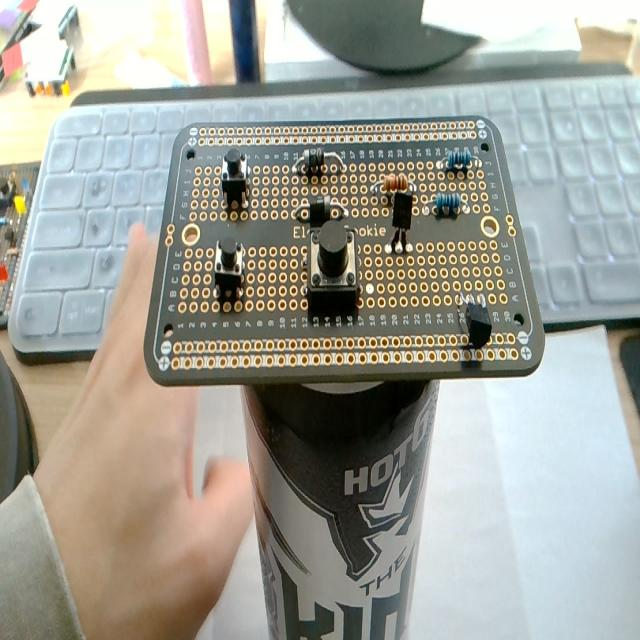diode: (297, 187, 341, 225), (292, 148, 344, 179)
resistor: (376, 167, 412, 195), (443, 148, 473, 176), (435, 190, 460, 218)
switch: (306, 220, 359, 310), (213, 237, 245, 310), (220, 148, 250, 210)
transistor: (454, 284, 495, 356), (387, 194, 419, 265)
